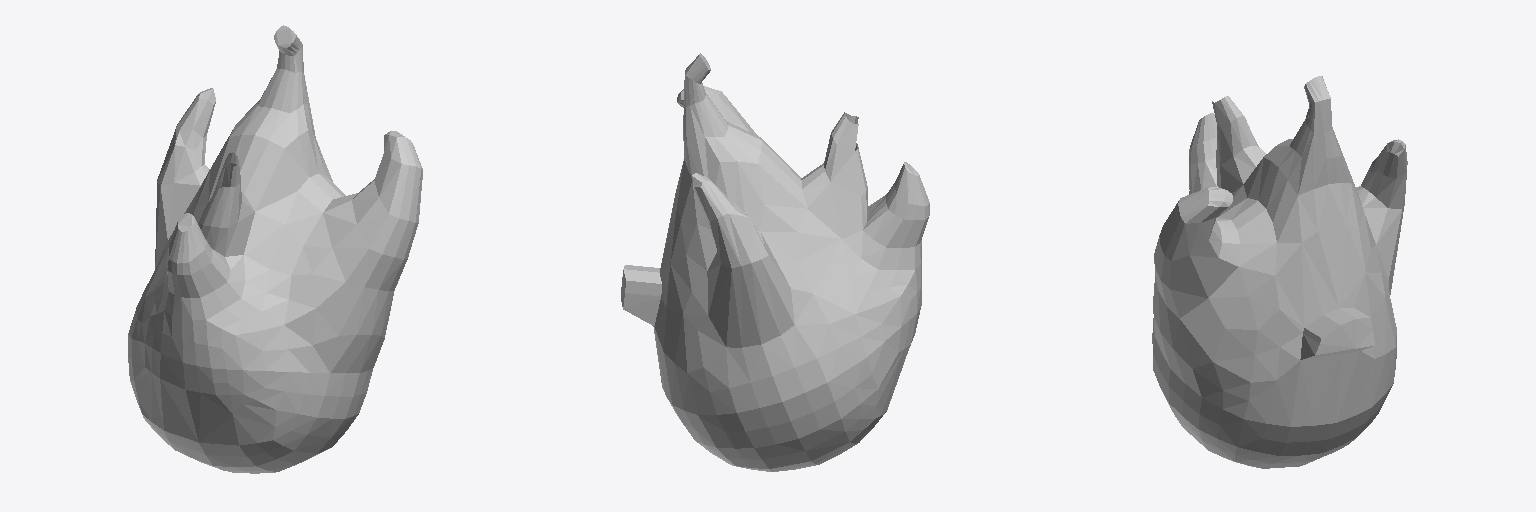
The model's file is Wisp.obj.
3 views of the same model, side by side, from view 1: azimuth 30°, elevation 25°; view 2: azimuth 150°, elevation 25°; view 3: azimuth 270°, elevation 25° (orthographic).
Visible parts, largest first — view 1: Circle; view 2: Circle; view 3: Circle.
Boxes of the visible parts, x1,y1,x2,y2 form: Circle: [128, 25, 422, 473]; Circle: [621, 53, 929, 471]; Circle: [1152, 76, 1407, 468].
Bounding box in the file's own units: 4.35 × 6.89 × 3.91.